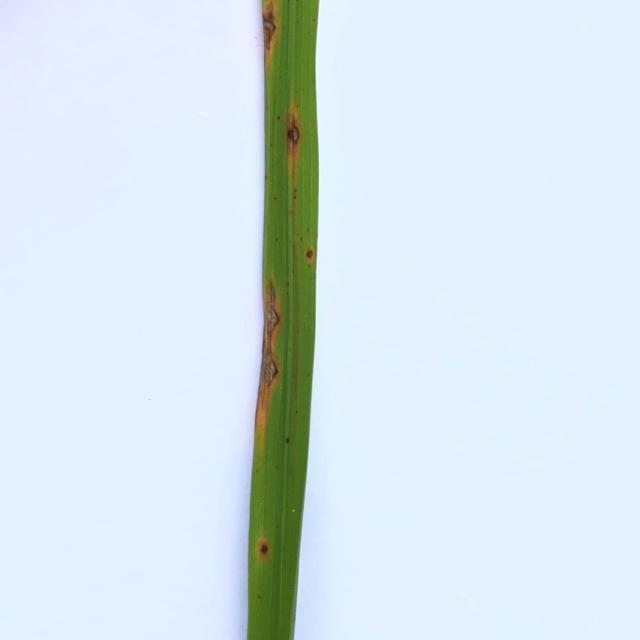Leaf_Blast: (249, 3, 287, 62), (256, 277, 292, 338), (278, 92, 310, 158), (254, 344, 288, 402), (251, 523, 273, 566)
